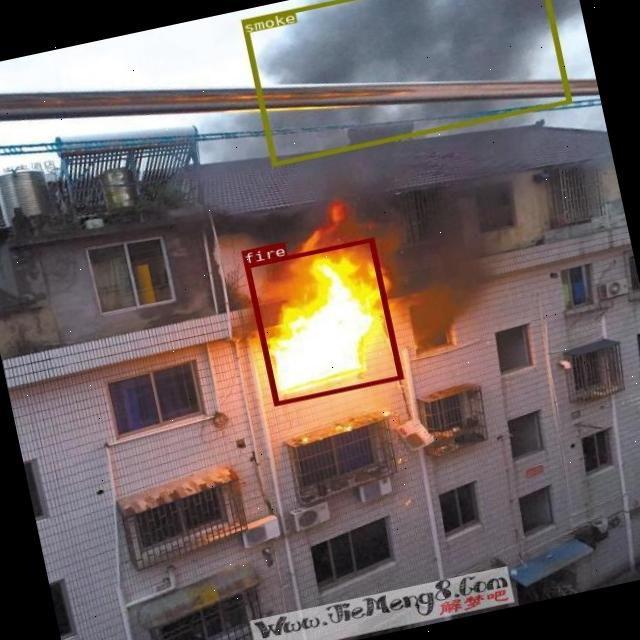fire: (244, 238, 402, 404)
smoke: (241, 0, 570, 164)
